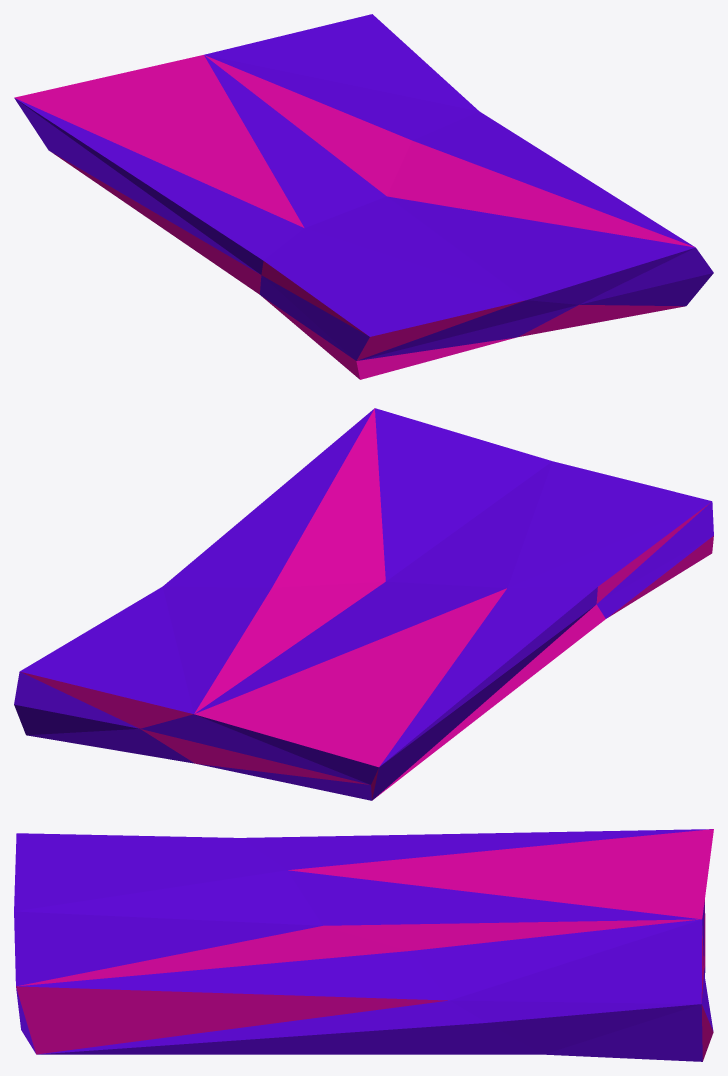
File: ExportedBlenderFBXFile.fbx
The picture shows the model from 3 angles, top to bottom: view 1: azimuth 30°, elevation 25°; view 2: azimuth 150°, elevation 25°; view 3: azimuth 270°, elevation 25°; orthographic projection. The views are drawn at different scales.
Visible parts, largest first — view 1: HalfPlank; view 2: HalfPlank; view 3: HalfPlank.
Boxes of the visible parts, x1=… form: HalfPlank: x1=14, y1=14, x2=713, y2=379; HalfPlank: x1=14, y1=408, x2=713, y2=800; HalfPlank: x1=14, y1=829, x2=713, y2=1061.
Size of the model in its own units: 0.6266 by 0.1185 by 1.01.
